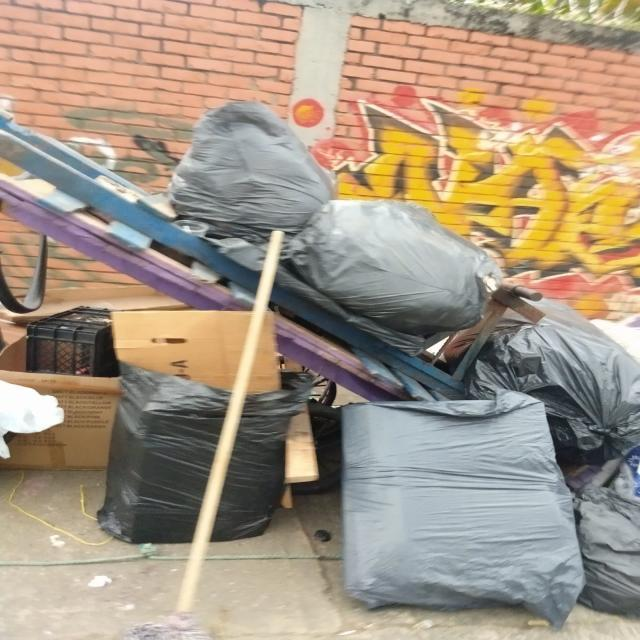Trashbag: (331, 390, 578, 620), (101, 387, 289, 544), (304, 200, 502, 336), (472, 286, 639, 444), (174, 106, 322, 241), (573, 458, 640, 613)
